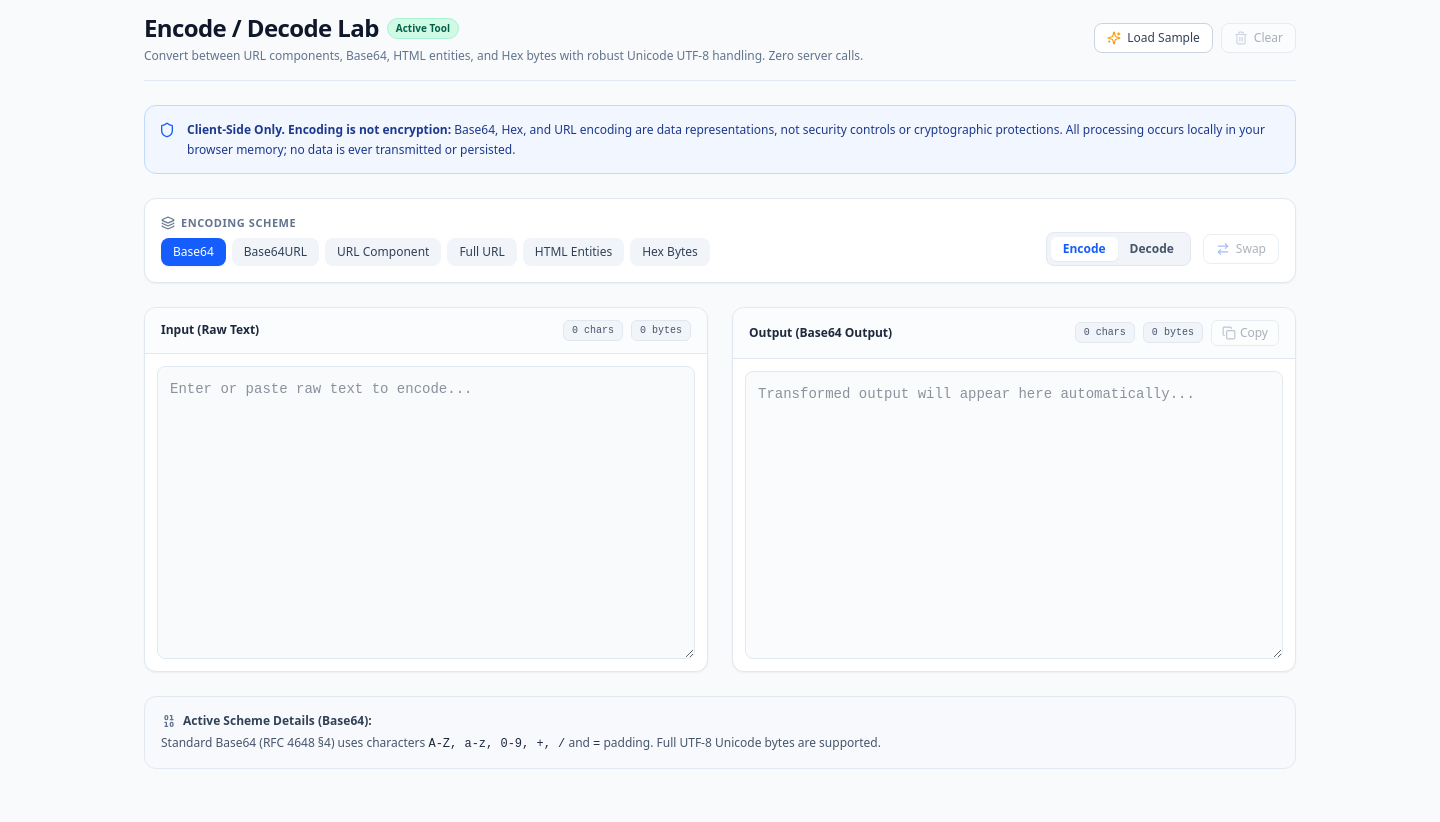
Test: EncodeDecodeLab Component › clears all inputs, outputs, and errors when Clear button is clicked
This screenshot has width=1440, height=822.
Type "Some text to clear" into the text box named "Input payload" at (426, 512), box [157,366,695,658]
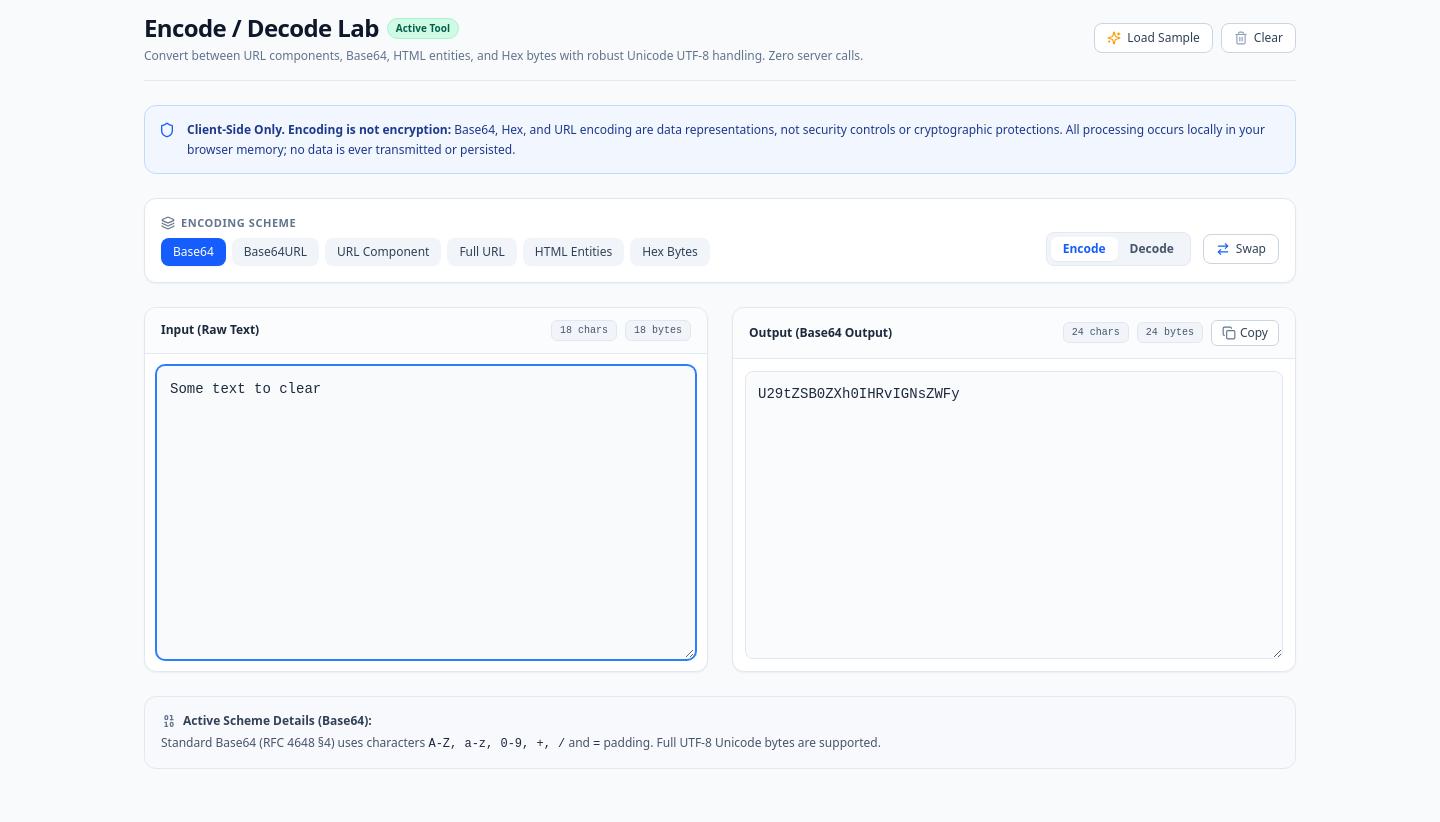
Click the button "Clear" at (1258, 38), box [1221,23,1296,53]
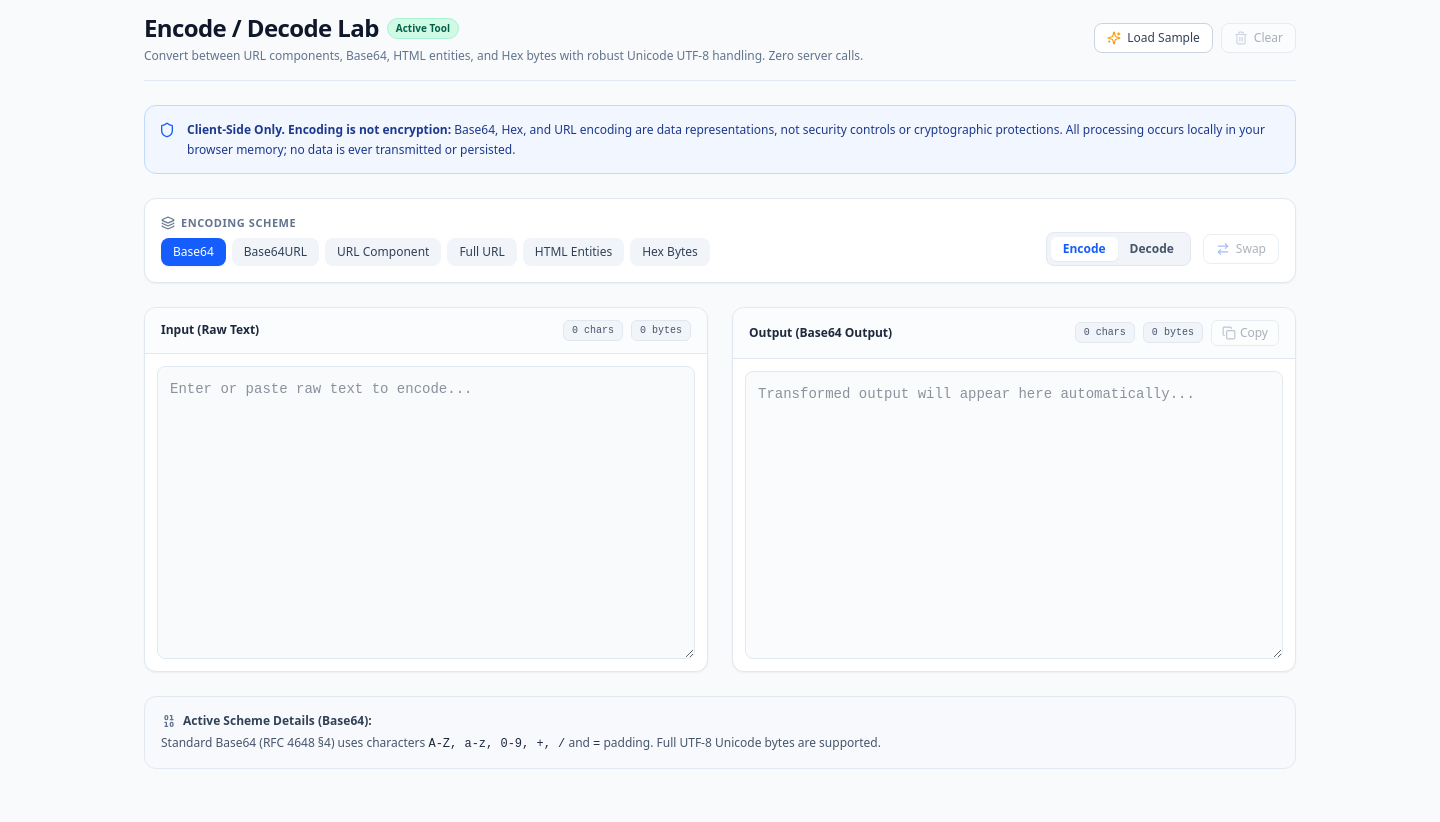
Now the text box named "Input payload" is empty, box [157,366,695,658]
Now the text box labelled "Transformed output" is empty, box [745,370,1283,658]
